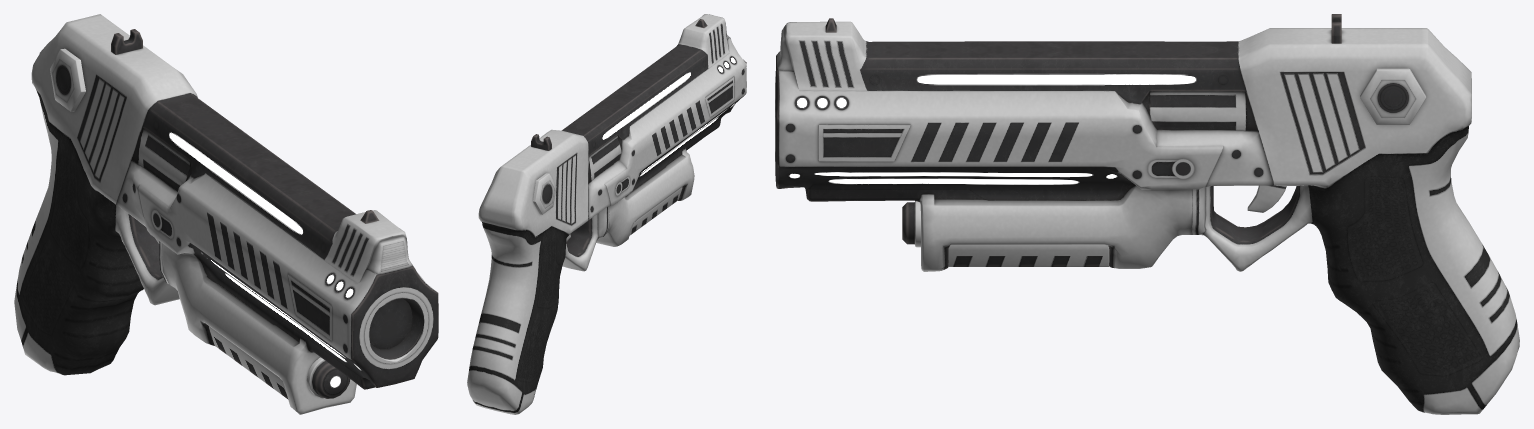
File: SciFiPistol01_2.FBX
3 views of the same model, side by side, from view 1: azimuth 30°, elevation 25°; view 2: azimuth 150°, elevation 25°; view 3: azimuth 270°, elevation 25° (orthographic). The views are drawn at different scales.
Visible parts, largest first — view 1: SciFiPistol01_2, Button, Clip; view 2: SciFiPistol01_2, Clip; view 3: SciFiPistol01_2, Clip, Button, Trigger.
Part boxes in pixels (<box>): SciFiPistol01_2: <box>14,14,438,414</box>; Button: <box>306,357,350,398</box>; Clip: <box>209,326,288,399</box>; SciFiPistol01_2: <box>467,14,746,414</box>; Clip: <box>629,187,682,235</box>; SciFiPistol01_2: <box>775,14,1519,414</box>; Clip: <box>948,244,1109,266</box>; Button: <box>902,201,920,247</box>; Trigger: <box>1247,185,1286,212</box>.
Size of what is drawn, in the model's own units: 0.0375 by 0.1496 by 0.2632.
